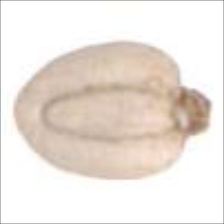L5: (40, 81, 183, 146), (173, 85, 214, 141), (12, 82, 37, 133)
L6: (12, 38, 215, 182)
